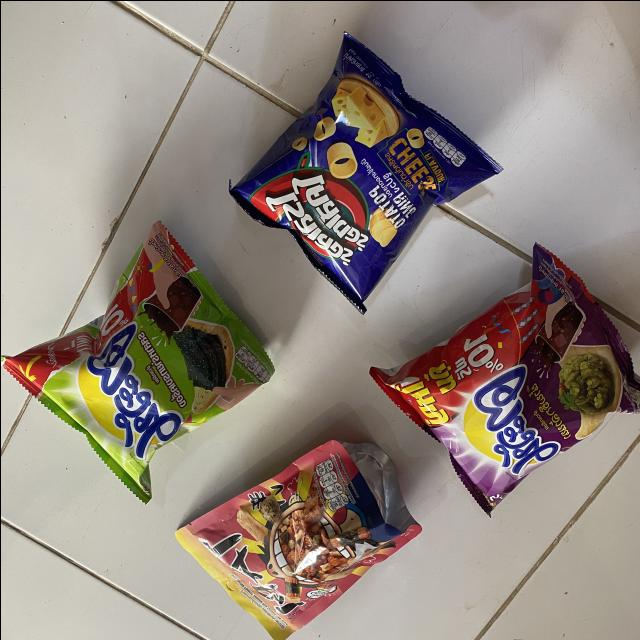plastik: (0, 221, 273, 502), (228, 32, 500, 312), (369, 243, 640, 514), (174, 439, 420, 640)
